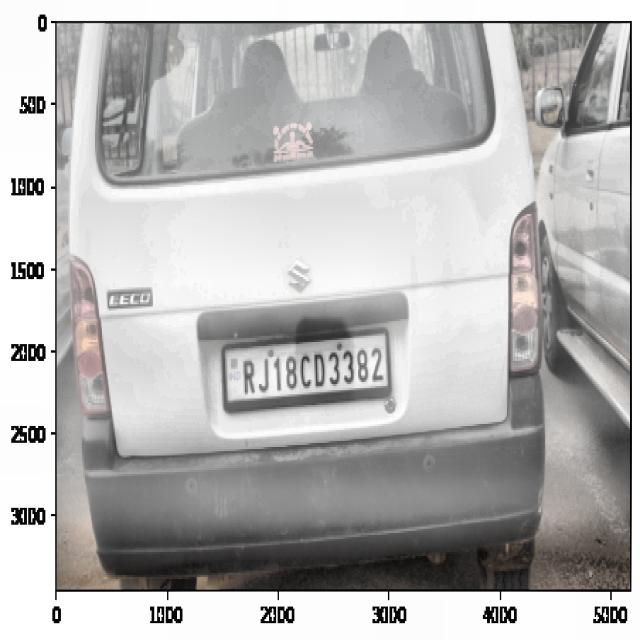license_plate: (237, 338, 389, 400)
